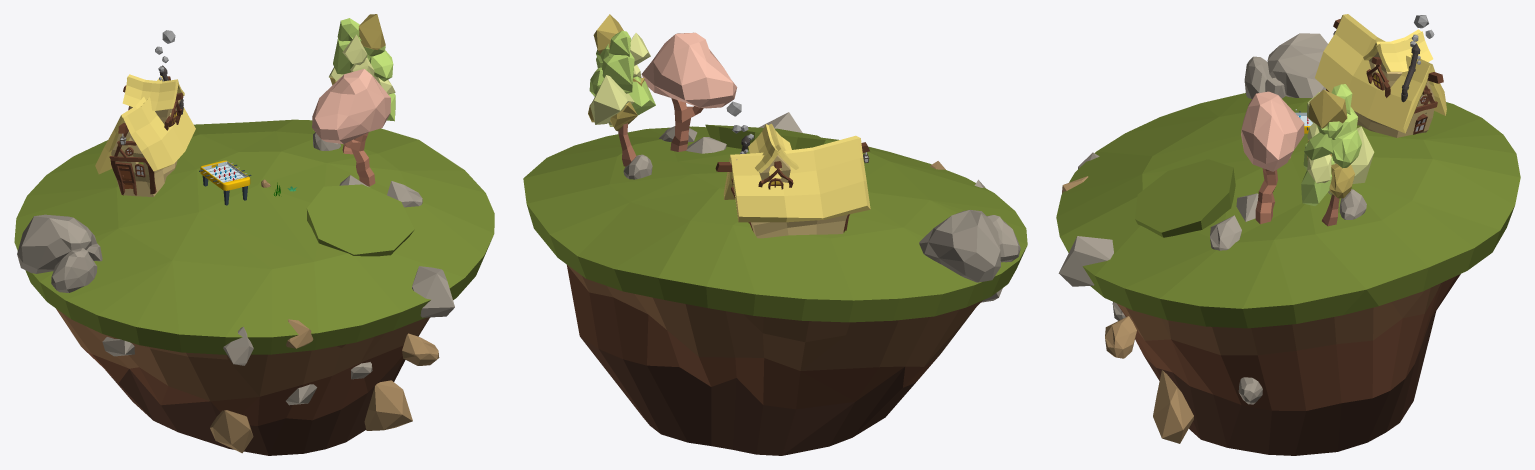
File: fullColision.glb
3 views of the same model, side by side, from view 1: azimuth 30°, elevation 25°; view 2: azimuth 150°, elevation 25°; view 3: azimuth 270°, elevation 25° (orthographic). The views are drawn at different scales.
Visible parts, largest first — view 1: Object_20, Object_11, Object_10, Object_12, ignore.004, Object_14, Object_16, Object_15, Object_9, Object_28, ignore.005, ignore.006 (+4 smaller); view 2: Object_20, Object_10, Object_11, Object_12, ignore.004, Object_14, Object_9, Object_28, ignore.006, Object_29, Object_22, Object_15 (+2 smaller); view 3: Object_20, Object_12, Object_10, Object_11, ignore.004, Object_14, Object_9, Object_15, Object_16, Object_28, Object_30, Object_29 (+3 smaller).
Part boxes in pixels (box(x1,y1,x2,y2)): Object_20: box(14, 119, 494, 354); Object_11: box(56, 308, 429, 401); Object_10: box(105, 359, 405, 455); Object_12: box(83, 318, 429, 425); ignore.004: box(95, 74, 195, 174); Object_14: box(17, 132, 430, 317); Object_16: box(210, 319, 439, 453); Object_15: box(86, 175, 454, 405); Object_9: box(312, 69, 390, 143); Object_28: box(333, 18, 395, 121); ignore.005: box(109, 76, 183, 195); ignore.006: box(111, 92, 180, 196); Object_20: box(523, 124, 1027, 322); Object_10: box(580, 337, 915, 455); Object_11: box(567, 265, 982, 370); Object_12: box(567, 265, 939, 409); ignore.004: box(723, 123, 870, 222); Object_14: box(623, 154, 1020, 282); Object_9: box(641, 32, 737, 108); Object_28: box(589, 30, 655, 115); ignore.006: box(736, 155, 847, 238); Object_29: box(590, 33, 650, 126); Object_22: box(618, 98, 703, 166); Object_15: box(659, 112, 1002, 302); Object_20: box(1056, 93, 1520, 328); Object_12: box(1117, 274, 1460, 410); Object_10: box(1144, 311, 1436, 455); Object_11: box(1117, 282, 1442, 355); ignore.004: box(1315, 14, 1446, 133); Object_14: box(1238, 33, 1366, 404); Object_9: box(1241, 91, 1304, 171); Object_15: box(1058, 77, 1285, 320); Object_16: box(1062, 176, 1193, 443); Object_28: box(1301, 84, 1361, 205); Object_30: box(1307, 89, 1354, 198); Object_29: box(1307, 92, 1374, 194).
Bounding box in the file's own units: 36.78 × 28.87 × 31.5.
Materials: 30 (1 with a texture image).
